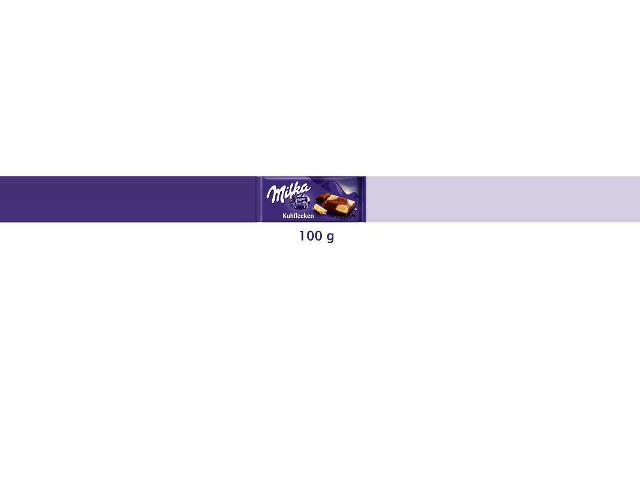chocolate: (256, 174, 367, 229)
